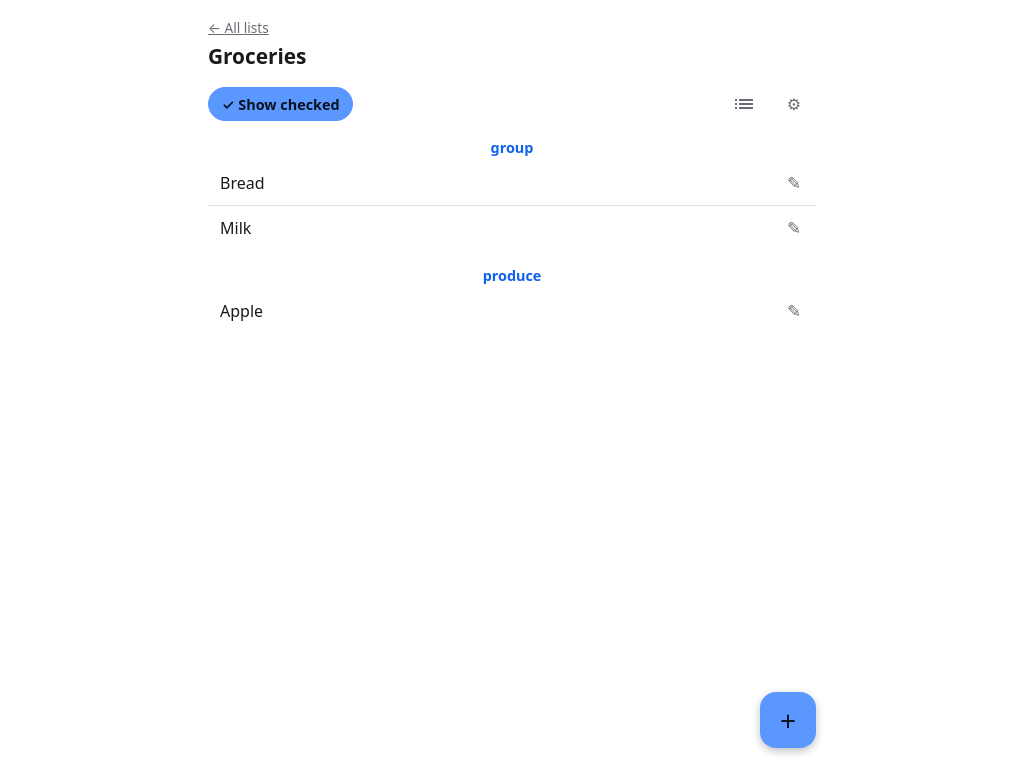
Test case: ListPage category recase-all (T-108) › editing one item's category to a same-word different-case value recases the whole group
expect the text "Milk" is shown: met, box [220, 217, 251, 239]
Click the button named "Edit Milk" at (794, 228), box [772, 206, 816, 250]
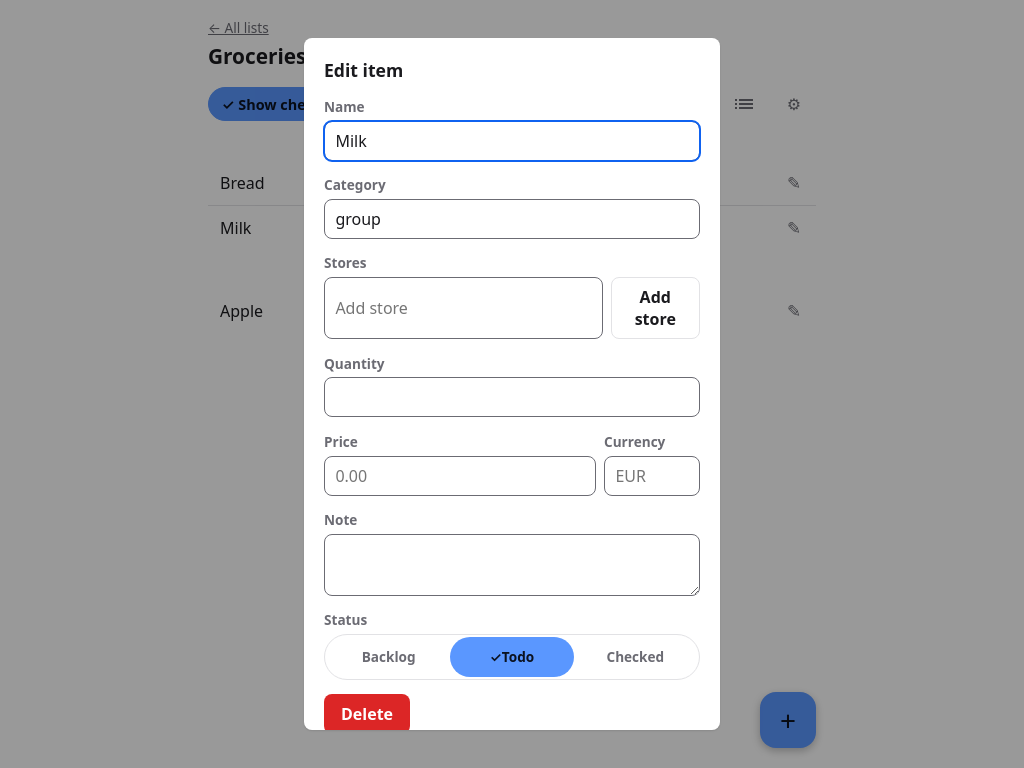
Replace the text in the field labelled "Category" with "Group" at (512, 219), box [324, 199, 700, 239]
(page scrolled)
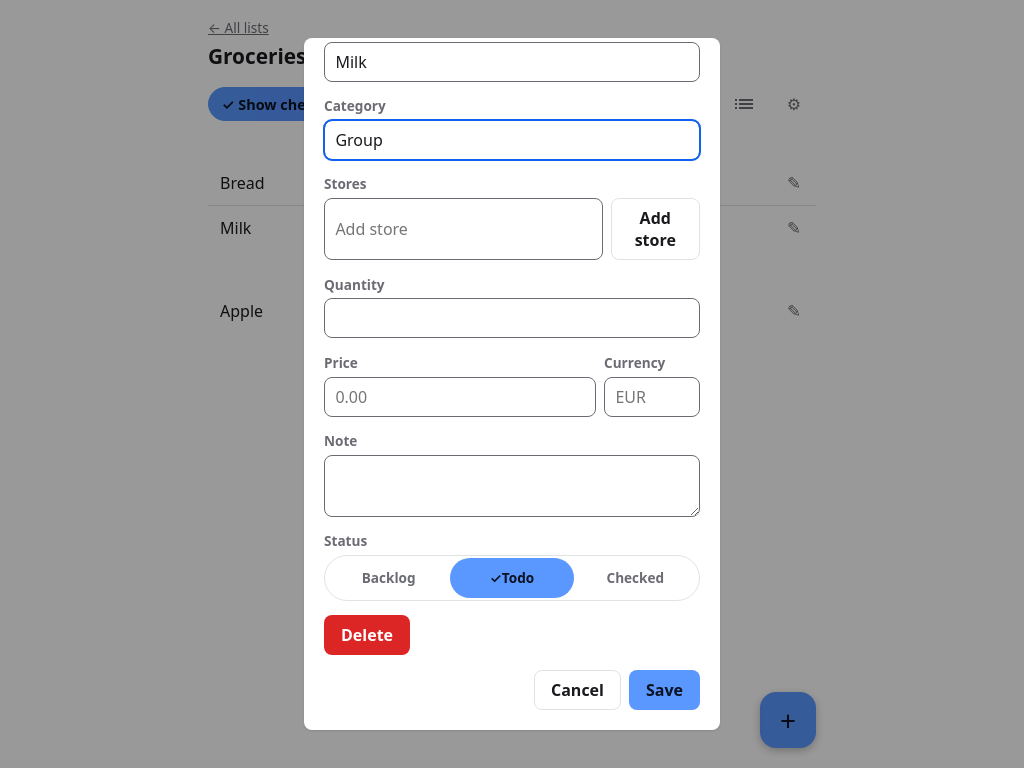
Click the button "Save" at (664, 690), box [629, 670, 700, 710]
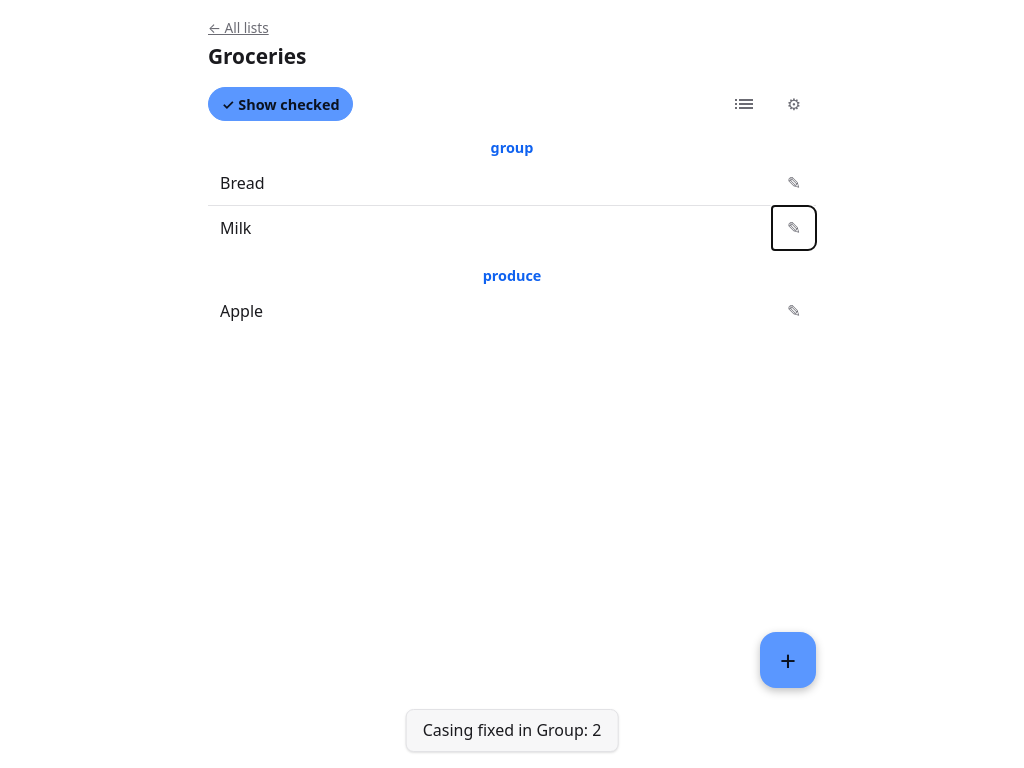
expect the text "Casing fixed in Group: 2" is shown: met, box [406, 709, 618, 752]
